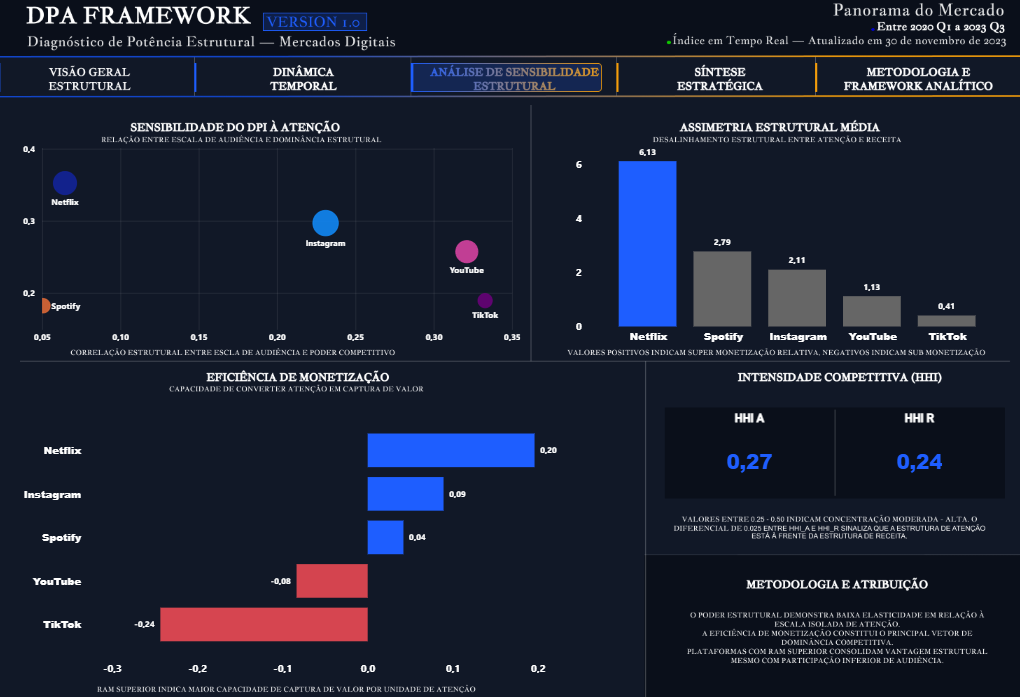

The page's visual inventory and layout, read from the dashboard file:
{"tool":"powerbi","page":{"name":"ANÁLISE DE SENSIBILIDADE ESTRUTURAL","canvas":[1460,1000],"ordinal":2},"visuals":[{"type":"scatterChart","fields":{"X":["FATO_USUARIOS_TRIMESTRAL.Share_A"],"Y":["FATO_USUARIOS_TRIMESTRAL.DPI Score"],"Size":["FATO_USUARIOS_TRIMESTRAL.Share_R"],"Series":["DIM_PLATAFORMA.Plataforma"]},"box":[28.6,198.6,721.4,301.4],"z":0},{"type":"columnChart","fields":{"Category":["DIM_PLATAFORMA.Plataforma"],"Y":["FATO_USUARIOS_TRIMESTRAL.RAM"]},"box":[818.6,191.4,627.1,310],"z":1000},{"type":"cardVisual","title":"HHI A","fields":{"Data":["FATO_USUARIOS_TRIMESTRAL.HHI_A"]},"box":[960,587.1,224.3,122.9],"z":2000},{"type":"cardVisual","title":"HHI R","fields":{"Data":["FATO_USUARIOS_TRIMESTRAL.HHI_R"]},"box":[1214.3,587.1,201.4,122.9],"z":3000},{"type":"barChart","fields":{"Category":["DIM_PLATAFORMA.Plataforma"],"Y":["FATO_USUARIOS_TRIMESTRAL.Power Gap"]},"box":[28.6,581.4,852.9,394.3],"z":4000}]}

Visuals, with their boxes in screenshot pixels (x1, y1, x2, y2), scaled from the page's 1460x1000 canvas onto the 1020x697 screenshot:
scatterChart - FATO_USUARIOS_TRIMESTRAL.Share_A x FATO_USUARIOS_TRIMESTRAL.DPI Score: box(20, 138, 524, 348)
columnChart - DIM_PLATAFORMA.Plataforma x FATO_USUARIOS_TRIMESTRAL.RAM: box(572, 133, 1010, 349)
"HHI A" cardVisual: box(671, 409, 827, 495)
"HHI R" cardVisual: box(848, 409, 989, 495)
barChart - DIM_PLATAFORMA.Plataforma x FATO_USUARIOS_TRIMESTRAL.Power Gap: box(20, 405, 616, 680)
